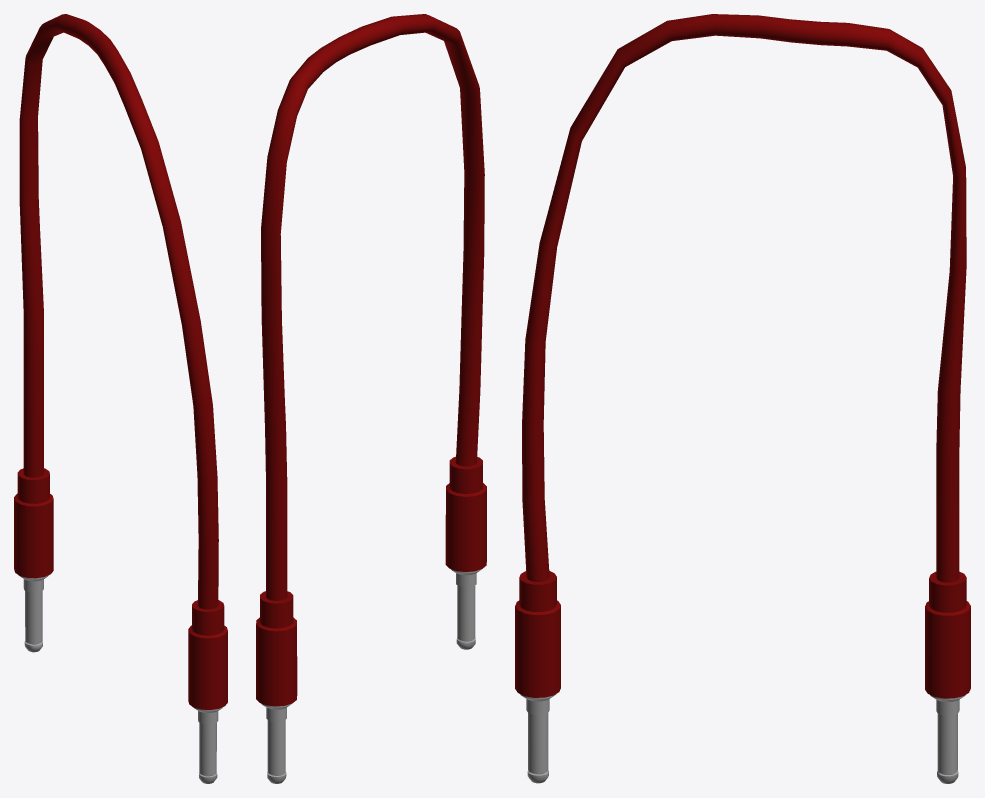
The model's file is Red.gltf.
3 renders of one model, left to right at view 1: azimuth 30°, elevation 25°; view 2: azimuth 150°, elevation 25°; view 3: azimuth 270°, elevation 25°, orthographic. The views are drawn at different scales.
Parts seen in each view (by area): view 1: Wire_010; view 2: Wire_010; view 3: Wire_010.
Boxes of the visible parts, x1,y1,x2,y2 form: Wire_010: (14, 14, 227, 783); Wire_010: (256, 14, 486, 783); Wire_010: (515, 14, 970, 783).
Bounding box in the file's own units: 0.0588 × 0.7279 × 0.3929.
Materials: 2 (1 with a texture image).
